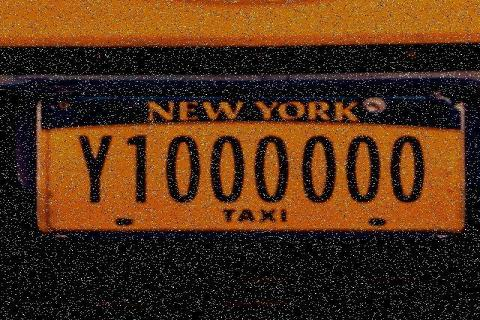LicensePlate: (31, 84, 477, 250)
